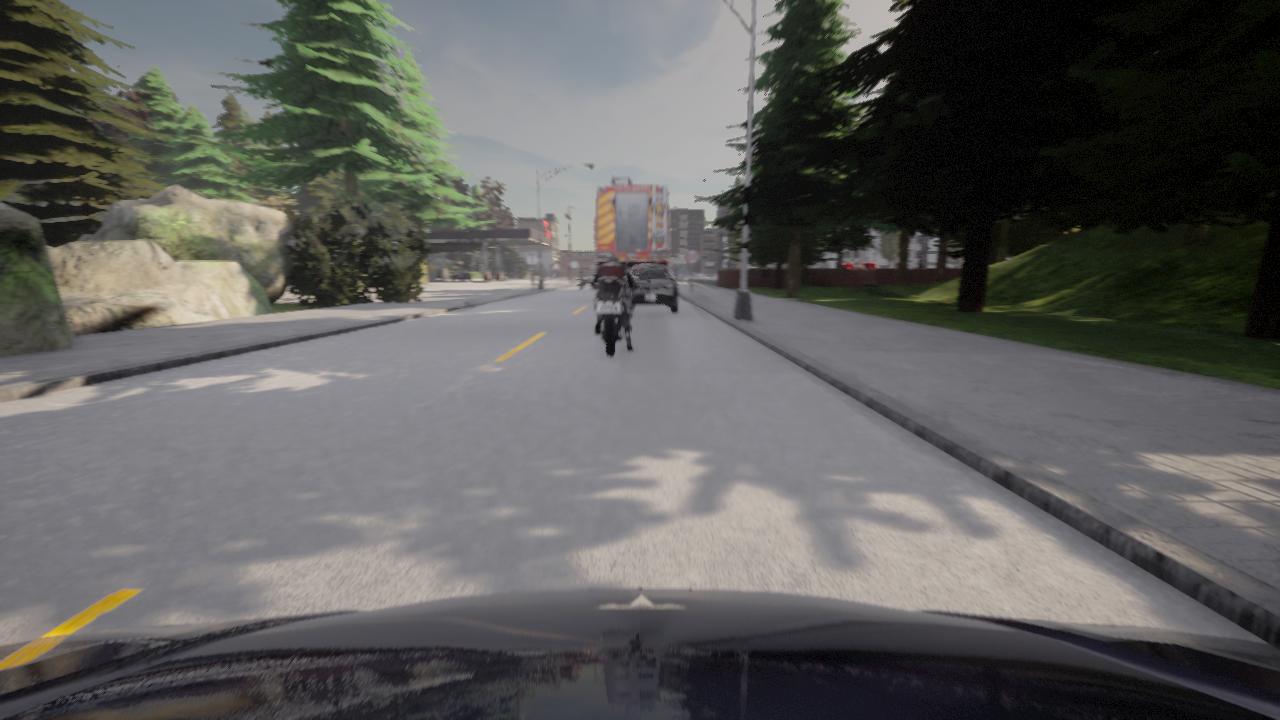cyclist: (0, 588, 1279, 719), (595, 176, 669, 271), (590, 273, 639, 356), (625, 264, 678, 313), (452, 270, 471, 280), (577, 273, 585, 289), (585, 271, 594, 285), (678, 271, 689, 274), (688, 272, 699, 274)
pedestrian: (672, 265, 678, 283)
